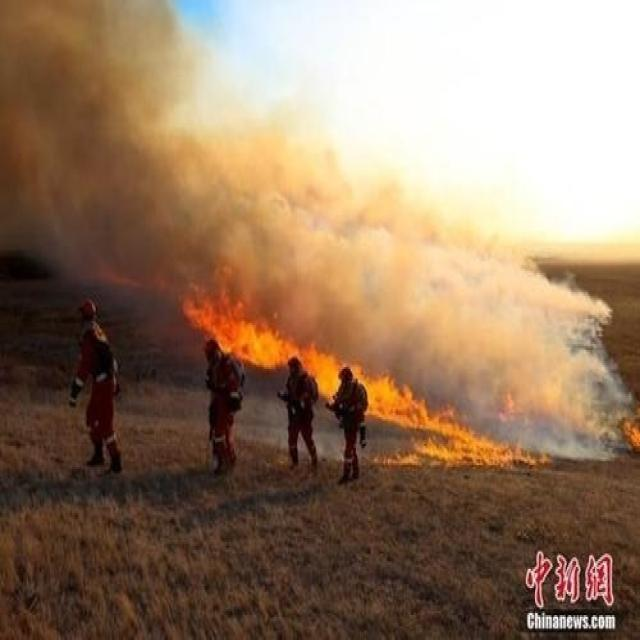Fire: (178, 292, 556, 469), (623, 417, 640, 444)
Smoke: (1, 1, 634, 462)
